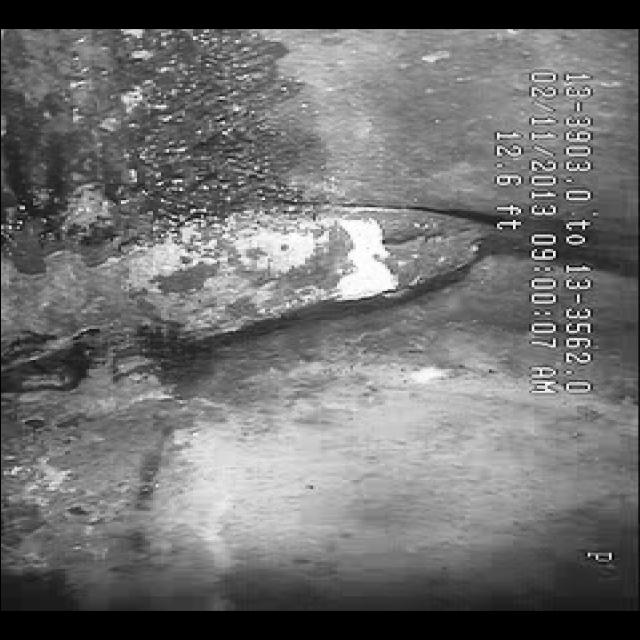Fracture: (76, 176, 483, 461)
